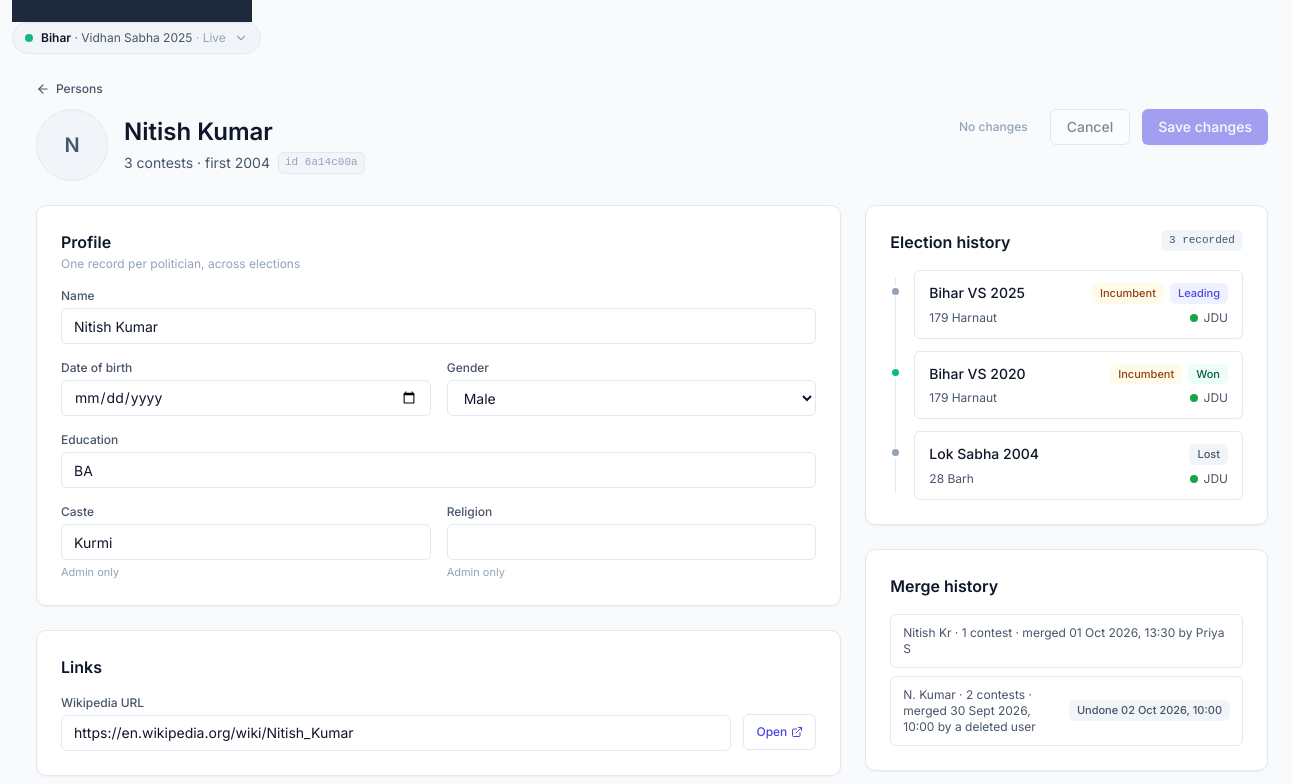
Test: Person record page › a history row opens the candidate in its election
The width and height of the screenshot is (1292, 784).
(page scrolled)
Step 1. Click the link "Bihar VS 2020 Incumbent Won 179 Harnaut JDU" → (977, 373), box 914,350 -> 1243,419
(page scrolled)
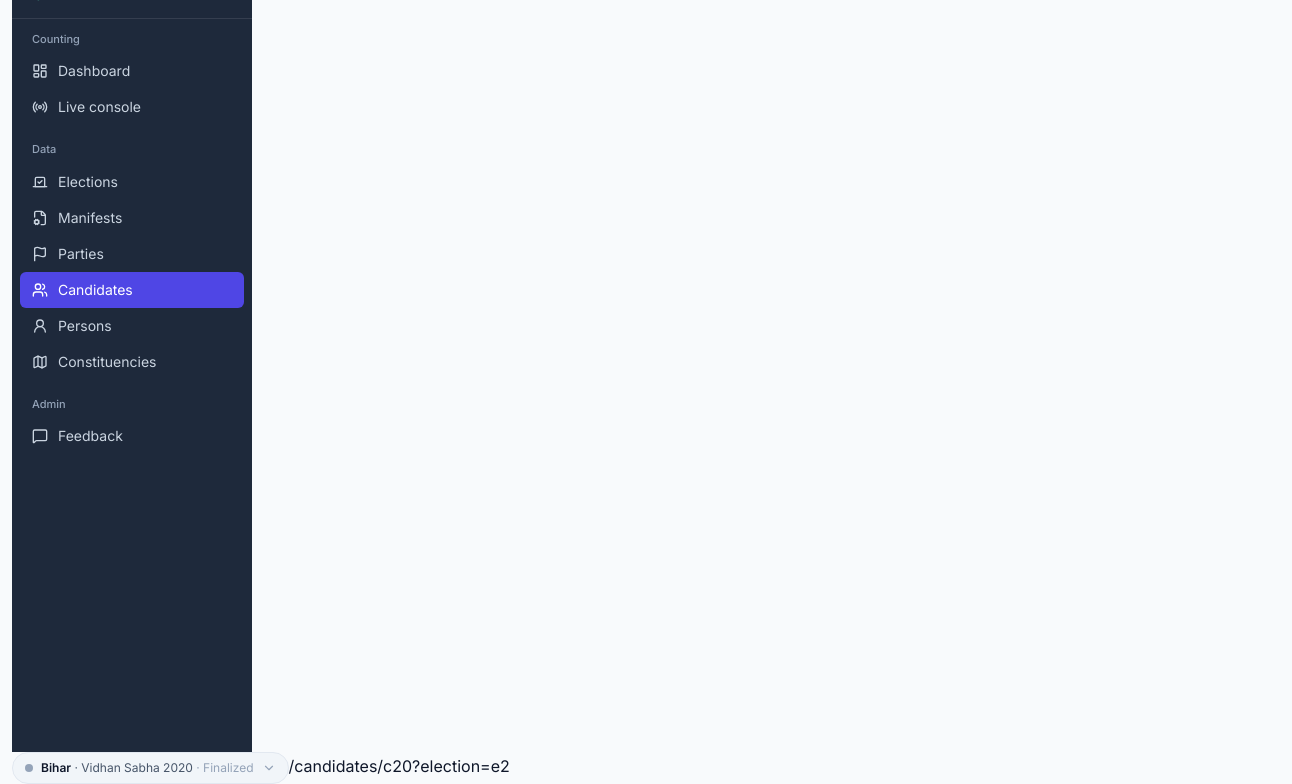
Expected: the text with test id "where" reads "/candidates/c20?election=e2", 288,756 -> 510,776
